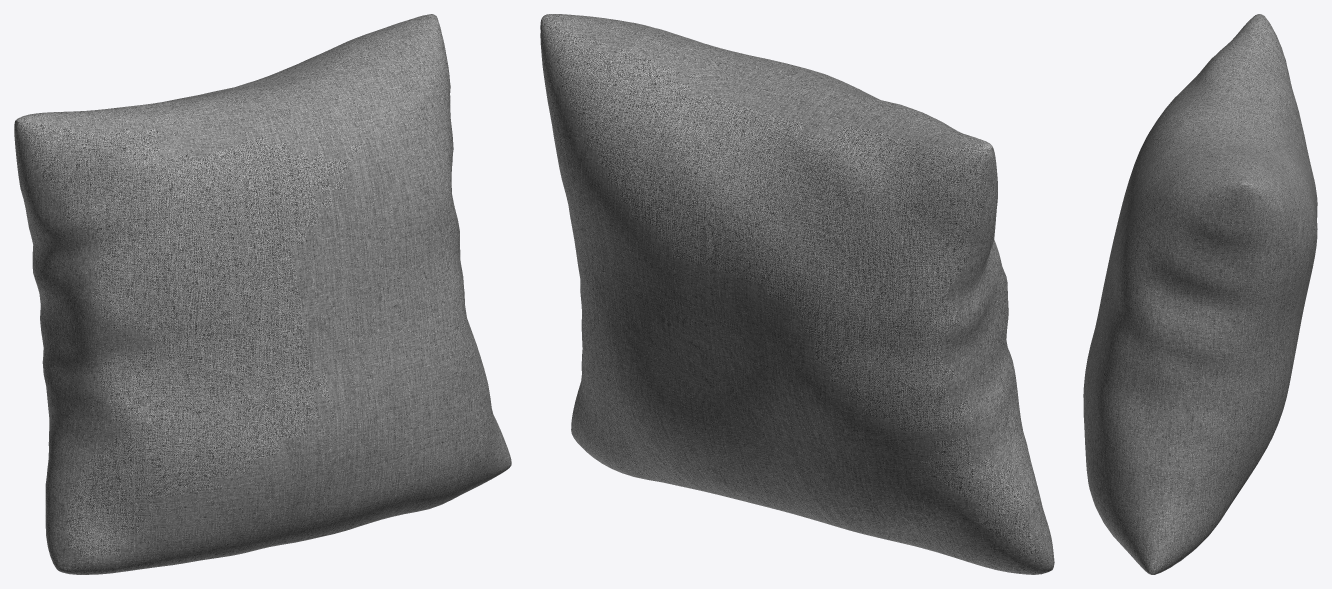
3 renders of one model, left to right at view 1: azimuth 30°, elevation 25°; view 2: azimuth 150°, elevation 25°; view 3: azimuth 270°, elevation 25°, orthographic. The views are drawn at different scales.
Parts seen in each view (by area): view 1: C-skpDA71; view 2: C-skpDA71; view 3: C-skpDA71.
Boxes of the visible parts, left/top/right/bottom form: C-skpDA71: left=14, top=14, right=511, bottom=574; C-skpDA71: left=540, top=14, right=1054, bottom=574; C-skpDA71: left=1083, top=14, right=1317, bottom=574.
Bounding box in the file's own units: 0.488 × 0.457 × 0.2461.
1 material, 1 textured.
